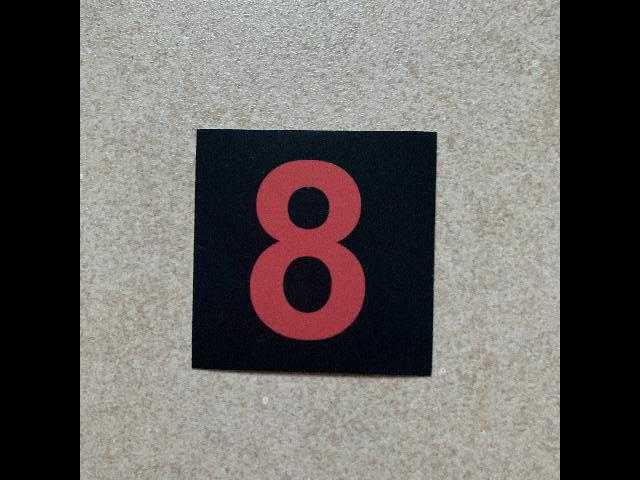eight: (190, 126, 438, 381)
